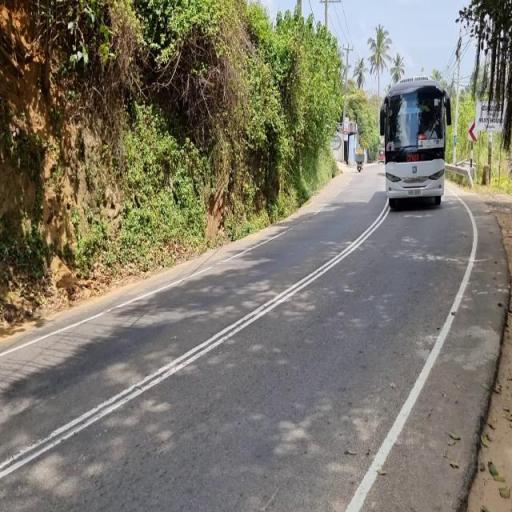double_white_line: (0, 193, 386, 485)
